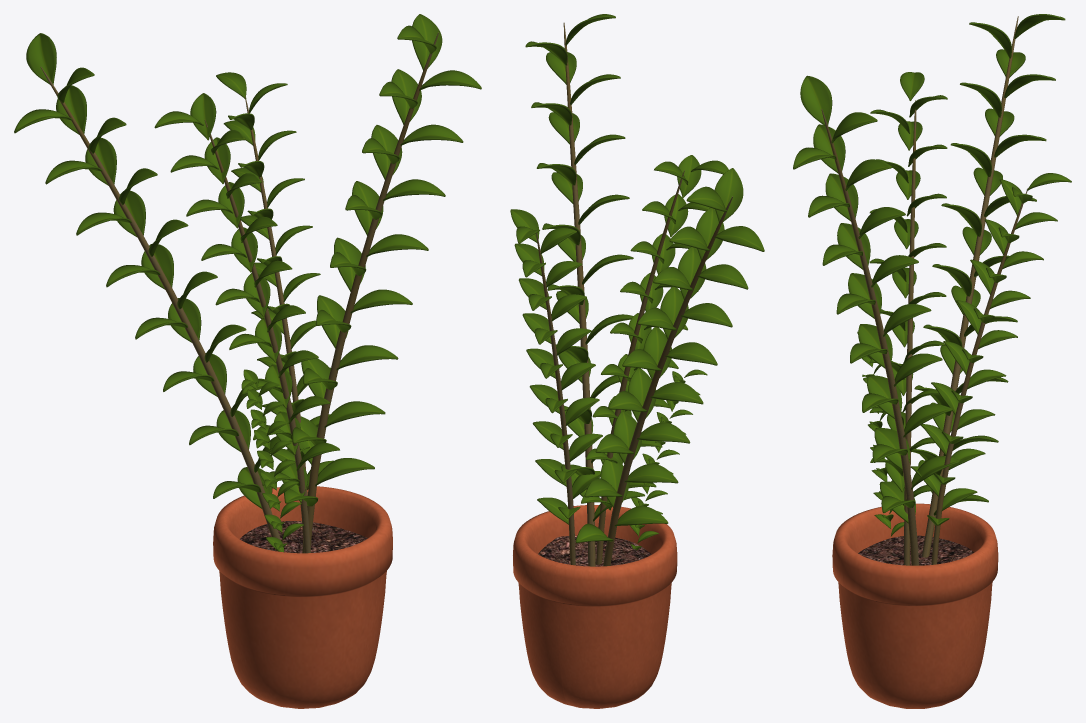
File: plant4.fbx
The picture shows the model from 3 angles, left to right: view 1: azimuth 30°, elevation 25°; view 2: azimuth 150°, elevation 25°; view 3: azimuth 270°, elevation 25°; orthographic projection. The views are drawn at different scales.
Visible parts, largest first — view 1: PotSmall3_Vert.006, LeafSmol1_Circle.029, LeafSmol4_Circle.032, LeafSmol3_Circle.031, LeafSmol2_Circle.030, LeafSmol5_Circle.033, StemSmol4_Cylinder.027, StemSmol1_Cylinder.024, PotSmall3Dirt_Circle.008, StemSmol3_Cylinder.026, StemSmol2_Cylinder.025; view 2: PotSmall3_Vert.006, LeafSmol4_Circle.032, LeafSmol2_Circle.030, LeafSmol1_Circle.029, LeafSmol3_Circle.031, StemSmol4_Cylinder.027, StemSmol1_Cylinder.024, PotSmall3Dirt_Circle.008, StemSmol2_Cylinder.025, StemSmol3_Cylinder.026, LeafSmol5_Circle.033; view 3: PotSmall3_Vert.006, LeafSmol1_Circle.029, LeafSmol4_Circle.032, LeafSmol2_Circle.030, LeafSmol3_Circle.031, StemSmol1_Cylinder.024, StemSmol4_Cylinder.027, PotSmall3Dirt_Circle.008, StemSmol3_Cylinder.026, StemSmol2_Cylinder.025, LeafSmol5_Circle.033.
Boxes of the visible parts, x1=… form: PotSmall3_Vert.006: x1=213, y1=486, x2=392, y2=708; LeafSmol1_Circle.029: x1=284, y1=14, x2=481, y2=506; LeafSmol4_Circle.032: x1=14, y1=33, x2=292, y2=508; LeafSmol3_Circle.031: x1=154, y1=93, x2=339, y2=502; LeafSmol2_Circle.030: x1=216, y1=72, x2=333, y2=489; LeafSmol5_Circle.033: x1=241, y1=369, x2=303, y2=552; StemSmol4_Cylinder.027: x1=40, y1=67, x2=284, y2=551; StemSmol1_Cylinder.024: x1=302, y1=32, x2=438, y2=553; PotSmall3Dirt_Circle.008: x1=240, y1=521, x2=367, y2=553; StemSmol3_Cylinder.026: x1=204, y1=120, x2=310, y2=553; StemSmol2_Cylinder.025: x1=245, y1=96, x2=307, y2=495; PotSmall3_Vert.006: x1=513, y1=505, x2=677, y2=708; LeafSmol4_Circle.032: x1=575, y1=168, x2=764, y2=543; LeafSmol2_Circle.030: x1=510, y1=209, x2=602, y2=524; LeafSmol1_Circle.029: x1=525, y1=14, x2=644, y2=521; LeafSmol3_Circle.031: x1=581, y1=155, x2=728, y2=510; StemSmol4_Cylinder.027: x1=603, y1=196, x2=732, y2=566; StemSmol1_Cylinder.024: x1=563, y1=22, x2=595, y2=566; PotSmall3Dirt_Circle.008: x1=538, y1=535, x2=651, y2=566; StemSmol2_Cylinder.025: x1=536, y1=233, x2=575, y2=565; StemSmol3_Cylinder.026: x1=596, y1=170, x2=684, y2=564; LeafSmol5_Circle.033: x1=630, y1=369, x2=707, y2=550; PotSmall3_Vert.006: x1=832, y1=503, x2=998, y2=708; LeafSmol1_Circle.029: x1=793, y1=75, x2=959, y2=523; LeafSmol4_Circle.032: x1=911, y1=14, x2=1065, y2=515; LeafSmol2_Circle.030: x1=910, y1=173, x2=1071, y2=525; LeafSmol3_Circle.031: x1=869, y1=72, x2=947, y2=505; StemSmol1_Cylinder.024: x1=821, y1=109, x2=919, y2=565; StemSmol4_Cylinder.027: x1=922, y1=16, x2=1018, y2=557; PotSmall3Dirt_Circle.008: x1=858, y1=535, x2=973, y2=565; StemSmol3_Cylinder.026: x1=904, y1=100, x2=916, y2=565; StemSmol2_Cylinder.025: x1=931, y1=188, x2=1028, y2=564; LeafSmol5_Circle.033: x1=857, y1=331, x2=904, y2=536.
Bounding box in the file's own units: 715 × 1355 × 536.
